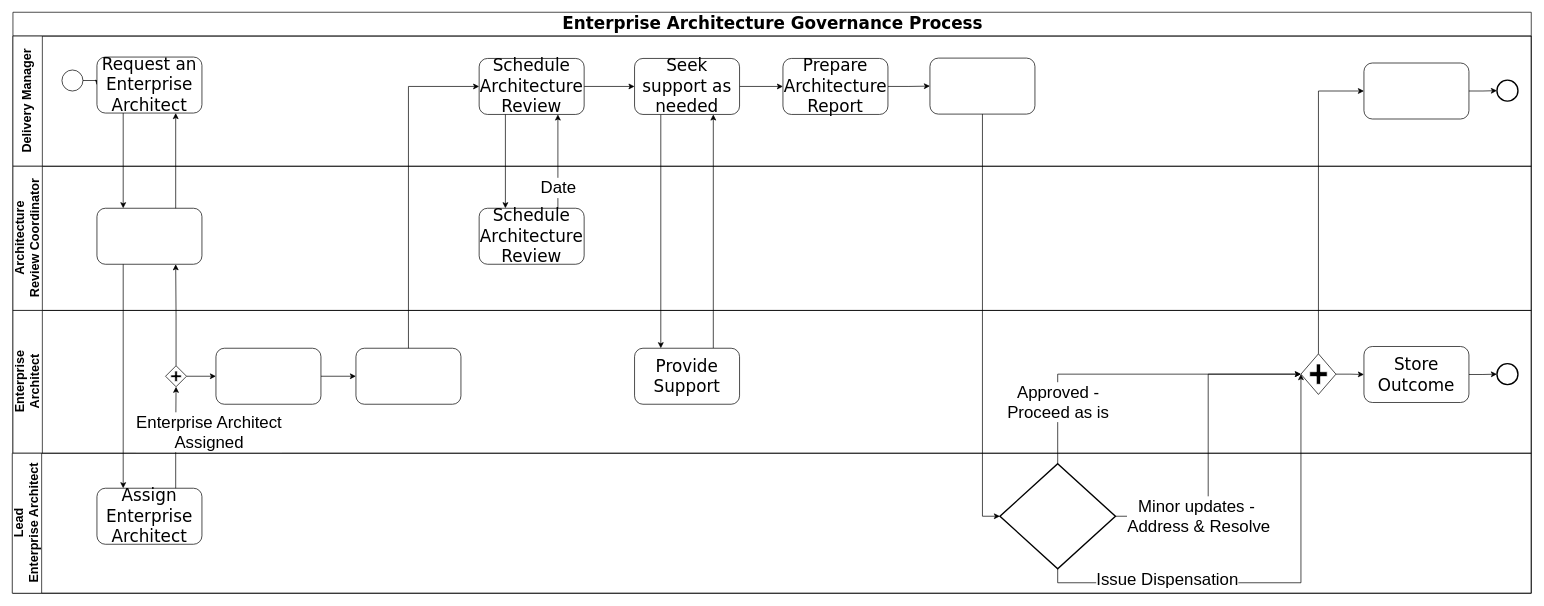
This 1544x606 diagram has some shape labels left out. The shapes that lost their labels are listed below. From the top down, each one's centre as x and y in pixels, then its label:
the point at 982,85: Present Architecture Report
the point at 1416,90: Proceed as directed
the point at 149,236: Work with Lead E.A
the point at 268,376: Determine Scope
the point at 408,376: Tailor Criteria
the point at 1057,516: Determine Outcome
